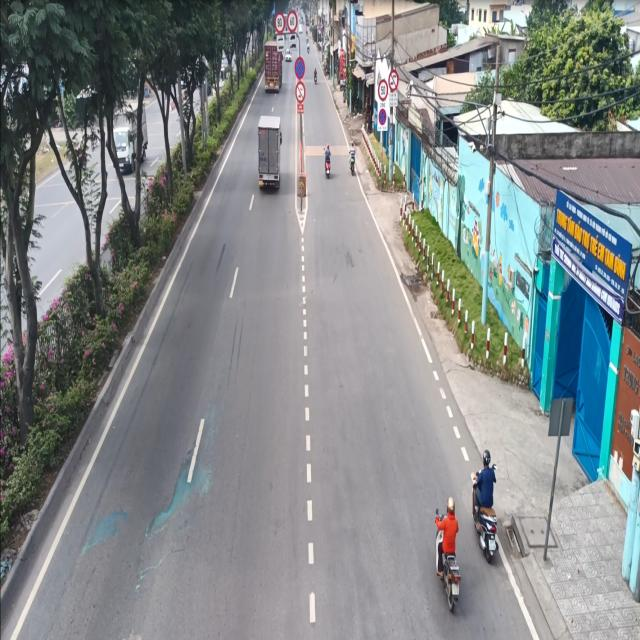motor: (426, 476, 460, 614), (470, 440, 504, 574)
truck: (254, 108, 287, 195)
